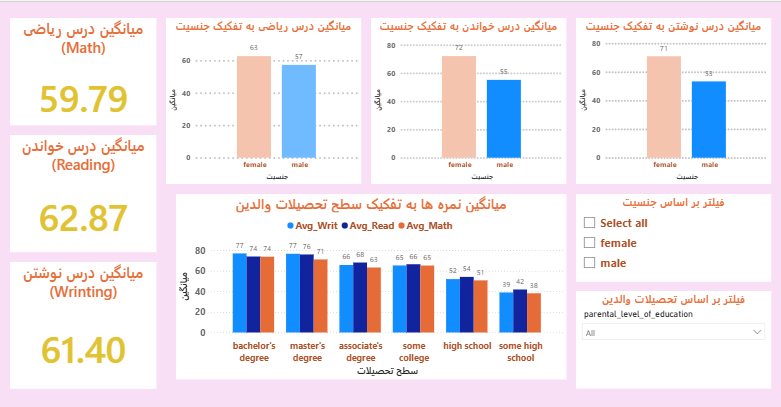

What the dashboard file says about the page in this screenshot:
{"tool":"powerbi","page":{"name":"Page 2","canvas":[1280,720],"ordinal":1},"visuals":[{"type":"cardVisual","title":"میانگین درس ریاضی (Math)","fields":{"Data":["student_performance_cleaned.Avg_Math"]},"box":[16,80,240,176],"z":0},{"type":"cardVisual","title":"میانگین درس خواندن (Reading) ","fields":{"Data":["student_performance_cleaned.Avg_Read"]},"box":[16,272,240,192],"z":1},{"type":"cardVisual","title":"میانگین درس نوشتن (Wrinting)","fields":{"Data":["student_performance_cleaned.Avg_Writ"]},"box":[16,480,240,208],"z":2},{"type":"clusteredColumnChart","title":"میانگین نمره ها به تفکیک سطح تحصیلات والدین","fields":{"Category":["student_performance_cleaned.parental_level_of_education"],"Y":["student_performance_cleaned.Avg_Writ","student_performance_cleaned.Avg_Read","student_performance_cleaned.Avg_Math"]},"box":[288,368,640,304],"z":4},{"type":"clusteredColumnChart","title":"میانگین درس ریاضی به تفکیک جنسیت","fields":{"Category":["student_performance_cleaned.gender"],"Y":["student_performance_cleaned.Avg_Math"]},"box":[272,80,320,272],"z":6},{"type":"clusteredColumnChart","title":"میانگین درس خواندن به تفکیک جنسیت","fields":{"Category":["student_performance_cleaned.gender"],"Y":["student_performance_cleaned.Avg_Read"]},"box":[608,80,320,272],"z":7},{"type":"clusteredColumnChart","title":"میانگین درس نوشتن به تفکیک جنسیت","fields":{"Category":["student_performance_cleaned.gender"],"Y":["student_performance_cleaned.Avg_Writ"]},"box":[944,80,320,272],"z":8},{"type":"slicer","title":"فیلتر بر اساس جنسیت","fields":{"Values":["student_performance_cleaned.gender"]},"box":[944,368,320,144],"z":9},{"type":"slicer","title":"فیلتر بر اساس تحصیلات والدین","fields":{"Values":["student_performance_cleaned.parental_level_of_education"]},"box":[944,528,320,160],"z":10}]}

Visuals, with their boxes on the page's 1280x720 design canvas (x1, y1, x2, y2). These are canvas units, not pixel positions in the 781x407 screenshot, which may show the page scaled, cropped or inside an application window:
"میانگین درس ریاضی (Math)" cardVisual: 16 80 256 256
"میانگین درس خواندن (Reading) " cardVisual: 16 272 256 464
"میانگین درس نوشتن (Wrinting)" cardVisual: 16 480 256 688
"میانگین نمره ها به تفکیک سطح تحصیلات والدین" clusteredColumnChart: 288 368 928 672
"میانگین درس ریاضی به تفکیک جنسیت" clusteredColumnChart: 272 80 592 352
"میانگین درس خواندن به تفکیک جنسیت" clusteredColumnChart: 608 80 928 352
"میانگین درس نوشتن به تفکیک جنسیت" clusteredColumnChart: 944 80 1264 352
"فیلتر بر اساس جنسیت" slicer: 944 368 1264 512
"فیلتر بر اساس تحصیلات والدین" slicer: 944 528 1264 688
